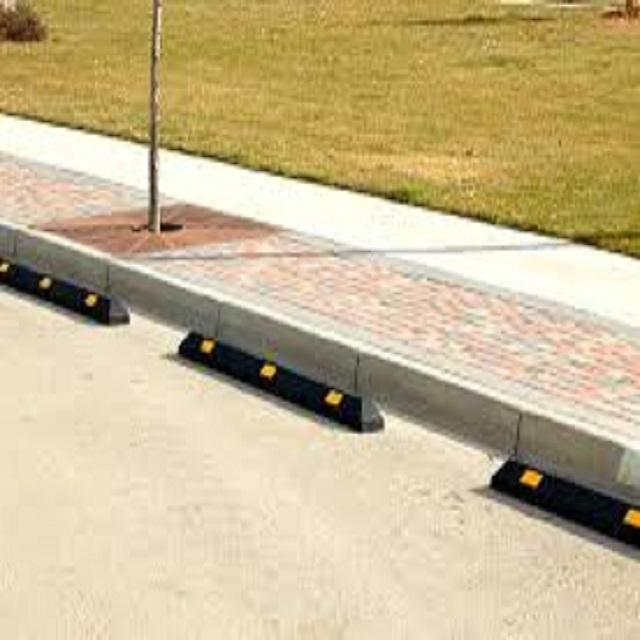curb: (155, 272, 382, 443), (493, 389, 640, 555), (1, 219, 145, 333), (392, 357, 507, 472)
